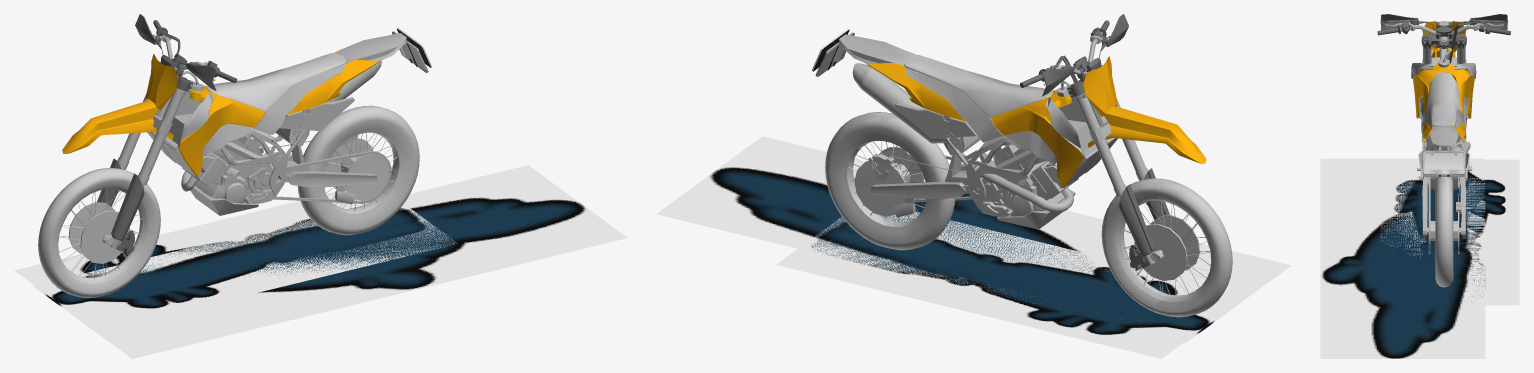
File: bike3.fbx
3 renders of one model, left to right at view 1: azimuth 30°, elevation 25°; view 2: azimuth 150°, elevation 25°; view 3: azimuth 270°, elevation 25°, orthographic. The views are drawn at different scales.
Visible parts, largest first — view 1: Shadow_SunSet, Shadow_DayLight, Reflection_AI, Tyre_B, Tyre_F, Rim_F, Body_AI, Rim_B, SteeringReflection, SteeringBody_AI, Matt_AI, SteeringGold; view 2: Shadow_DayLight, Shadow_SunSet, Reflection_AI, Tyre_B, Tyre_F, Rim_F, Body_AI, Rim_B, SteeringReflection, SteeringBody_AI, Matt_AI, SteeringGold; view 3: Shadow_SunSet, Shadow_DayLight, Reflection_AI, SteeringReflection, Tyre_B, Body_AI, Matt_AI, Plate, SteeringGold, SteeringBody_AI, Rim_B.
Boxes of the visible parts, <box> form: Shadow_SunSet: <box>33,165,627,358</box>; Shadow_DayLight: <box>14,191,457,331</box>; Reflection_AI: <box>147,31,428,215</box>; Tyre_B: <box>297,105,419,235</box>; Tyre_F: <box>38,168,160,297</box>; Rim_F: <box>57,187,147,283</box>; Body_AI: <box>177,49,379,176</box>; Rim_B: <box>321,129,403,217</box>; SteeringReflection: <box>97,14,237,254</box>; SteeringBody_AI: <box>62,53,178,153</box>; Matt_AI: <box>206,52,346,111</box>; SteeringGold: <box>102,30,215,248</box>; Shadow_DayLight: <box>776,212,1250,358</box>; Shadow_SunSet: <box>656,136,1291,343</box>; Reflection_AI: <box>815,32,1117,229</box>; Tyre_B: <box>825,112,955,250</box>; Tyre_F: <box>1101,178,1232,317</box>; Rim_F: <box>1115,199,1211,301</box>; Body_AI: <box>868,52,1084,187</box>; Rim_B: <box>842,136,929,231</box>; SteeringReflection: <box>1020,14,1169,270</box>; SteeringBody_AI: <box>1083,56,1206,163</box>; Matt_AI: <box>853,55,1053,117</box>; SteeringGold: <box>1043,31,1163,264</box>; Shadow_SunSet: <box>1320,158,1485,358</box>; Shadow_DayLight: <box>1380,159,1519,305</box>; Reflection_AI: <box>1411,47,1476,253</box>; SteeringReflection: <box>1377,14,1510,122</box>; Tyre_B: <box>1435,177,1453,287</box>; Body_AI: <box>1412,62,1474,142</box>; Matt_AI: <box>1426,72,1461,126</box>; Plate: <box>1423,150,1465,174</box>; SteeringGold: <box>1384,21,1503,66</box>; SteeringBody_AI: <box>1422,21,1466,57</box>; Rim_B: <box>1427,211,1461,253</box>.
Size of the model in its own units: 291 by 127 by 118.
